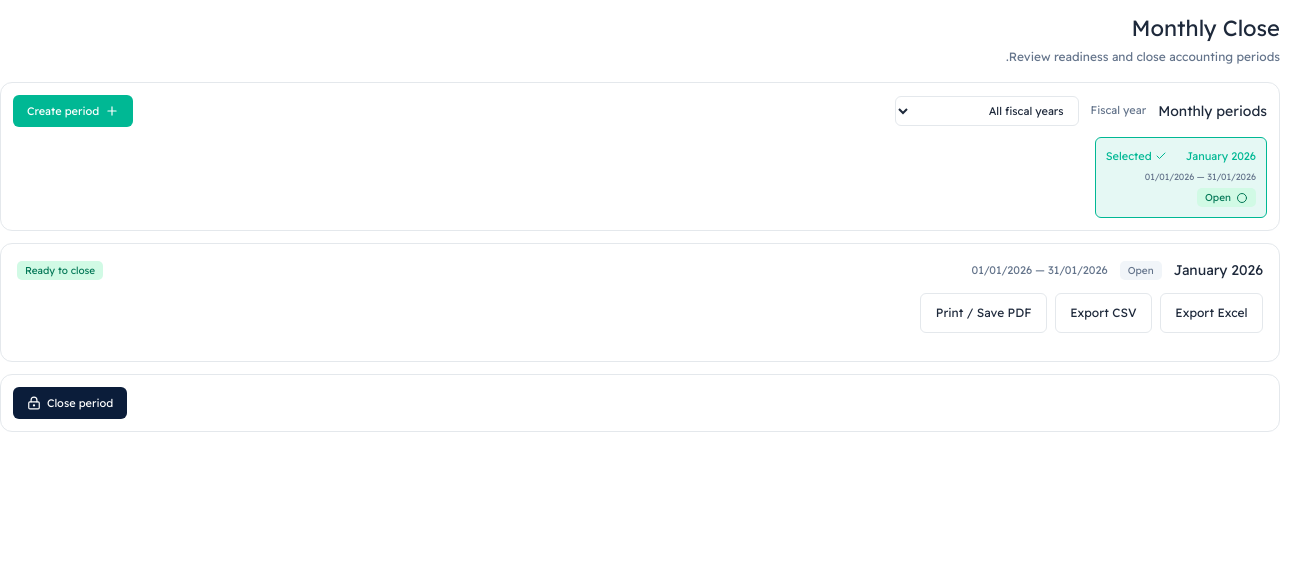
Test: MonthlyClose › shows the translated MONTHLY_CLOSE_BLOCKED message (en) when closing fails, never the raw backend text
Click the button "Close period". click: (70, 403)
box: [13,387,127,419]
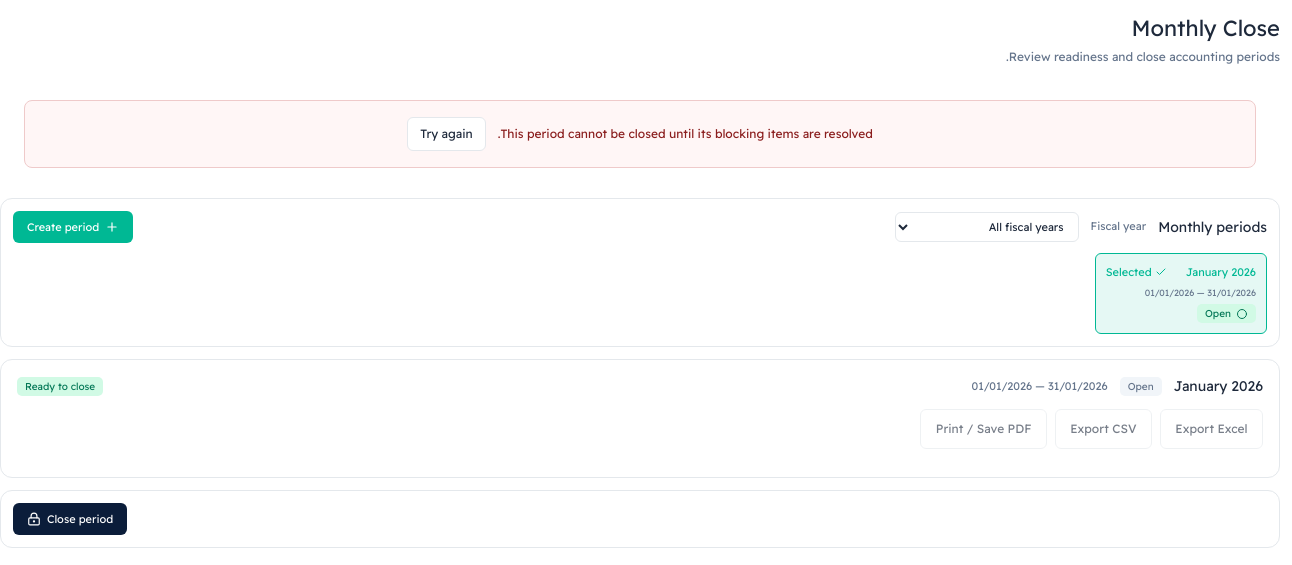
Expected: the text "This period cannot be closed until its blocking items are resolved." is shown, [498,124,873,144]
